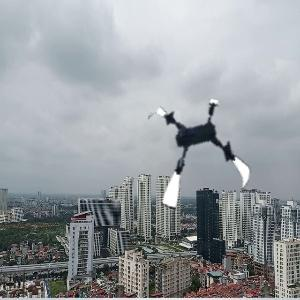drone: (139, 98, 257, 216)
